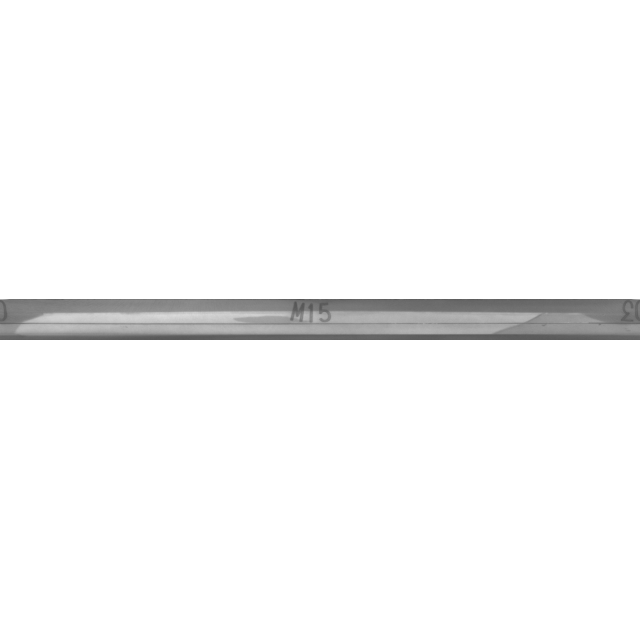mohao: (216, 270, 416, 370)
xuehao: (534, 270, 640, 370)
